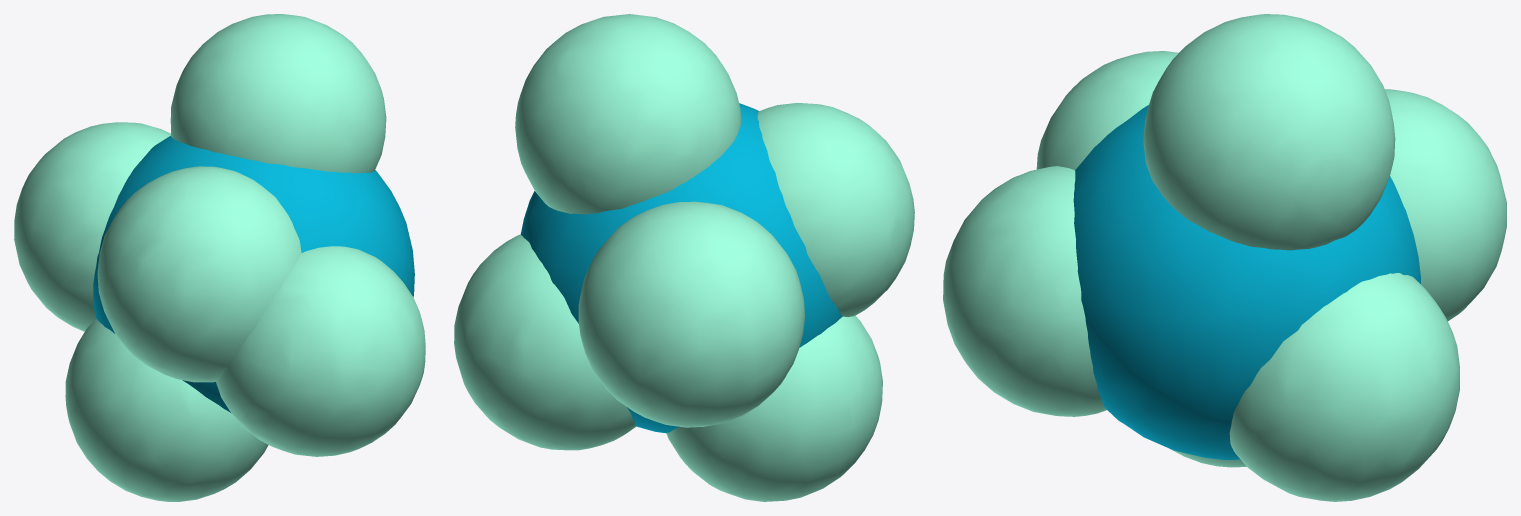
The model's file is greenmolecule.glb.
The picture shows the model from 3 angles, left to right: view 1: azimuth 30°, elevation 25°; view 2: azimuth 150°, elevation 25°; view 3: azimuth 270°, elevation 25°; orthographic projection. The views are drawn at different scales.
Visible parts, largest first — view 1: Sphere.6-Mat, Sphere.6-Mat.1; view 2: Sphere.6-Mat, Sphere.6-Mat.1; view 3: Sphere.6-Mat, Sphere.6-Mat.1.
Boxes of the visible parts, x1,y1,x2,y2 form: Sphere.6-Mat: (14, 14, 425, 501); Sphere.6-Mat.1: (93, 136, 414, 412); Sphere.6-Mat: (454, 14, 914, 501); Sphere.6-Mat.1: (521, 103, 842, 433); Sphere.6-Mat: (943, 14, 1506, 501); Sphere.6-Mat.1: (1073, 105, 1420, 459).
Size of the model in its own units: 1.2 by 1.45 by 1.48.
